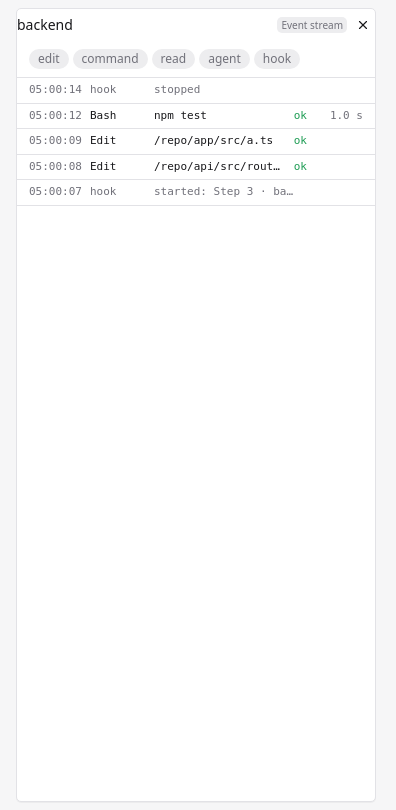
Test: DrillIn › shows the event stream for the selected agent and filters with the kind chips
The width and height of the screenshot is (396, 810).
Check: the heading "backend" is shown, box [17,15,73,35]
Check: the number of rows is 5, box [17,78,375,104]; [17,104,375,129]; [17,129,375,154]; [17,154,375,180]; [17,180,375,206]
Click the button "command" at {"x": 110, "y": 59}, box [73,49,148,69]
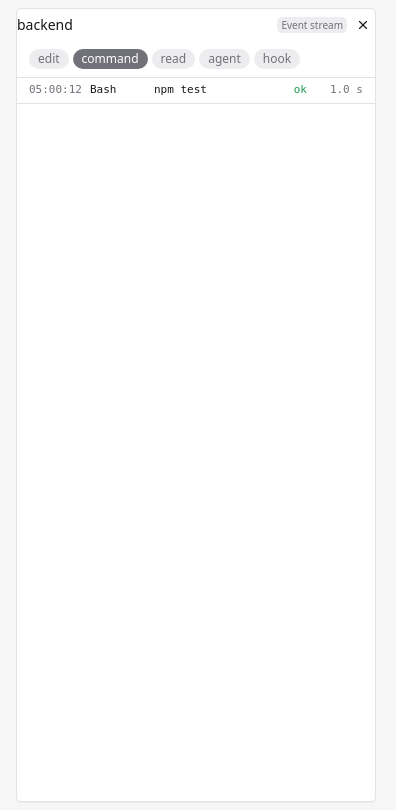
Check: the text "npm test" is shown, box [154,83,207,96]
Check: the number of rows is 1, box [17,78,375,104]
